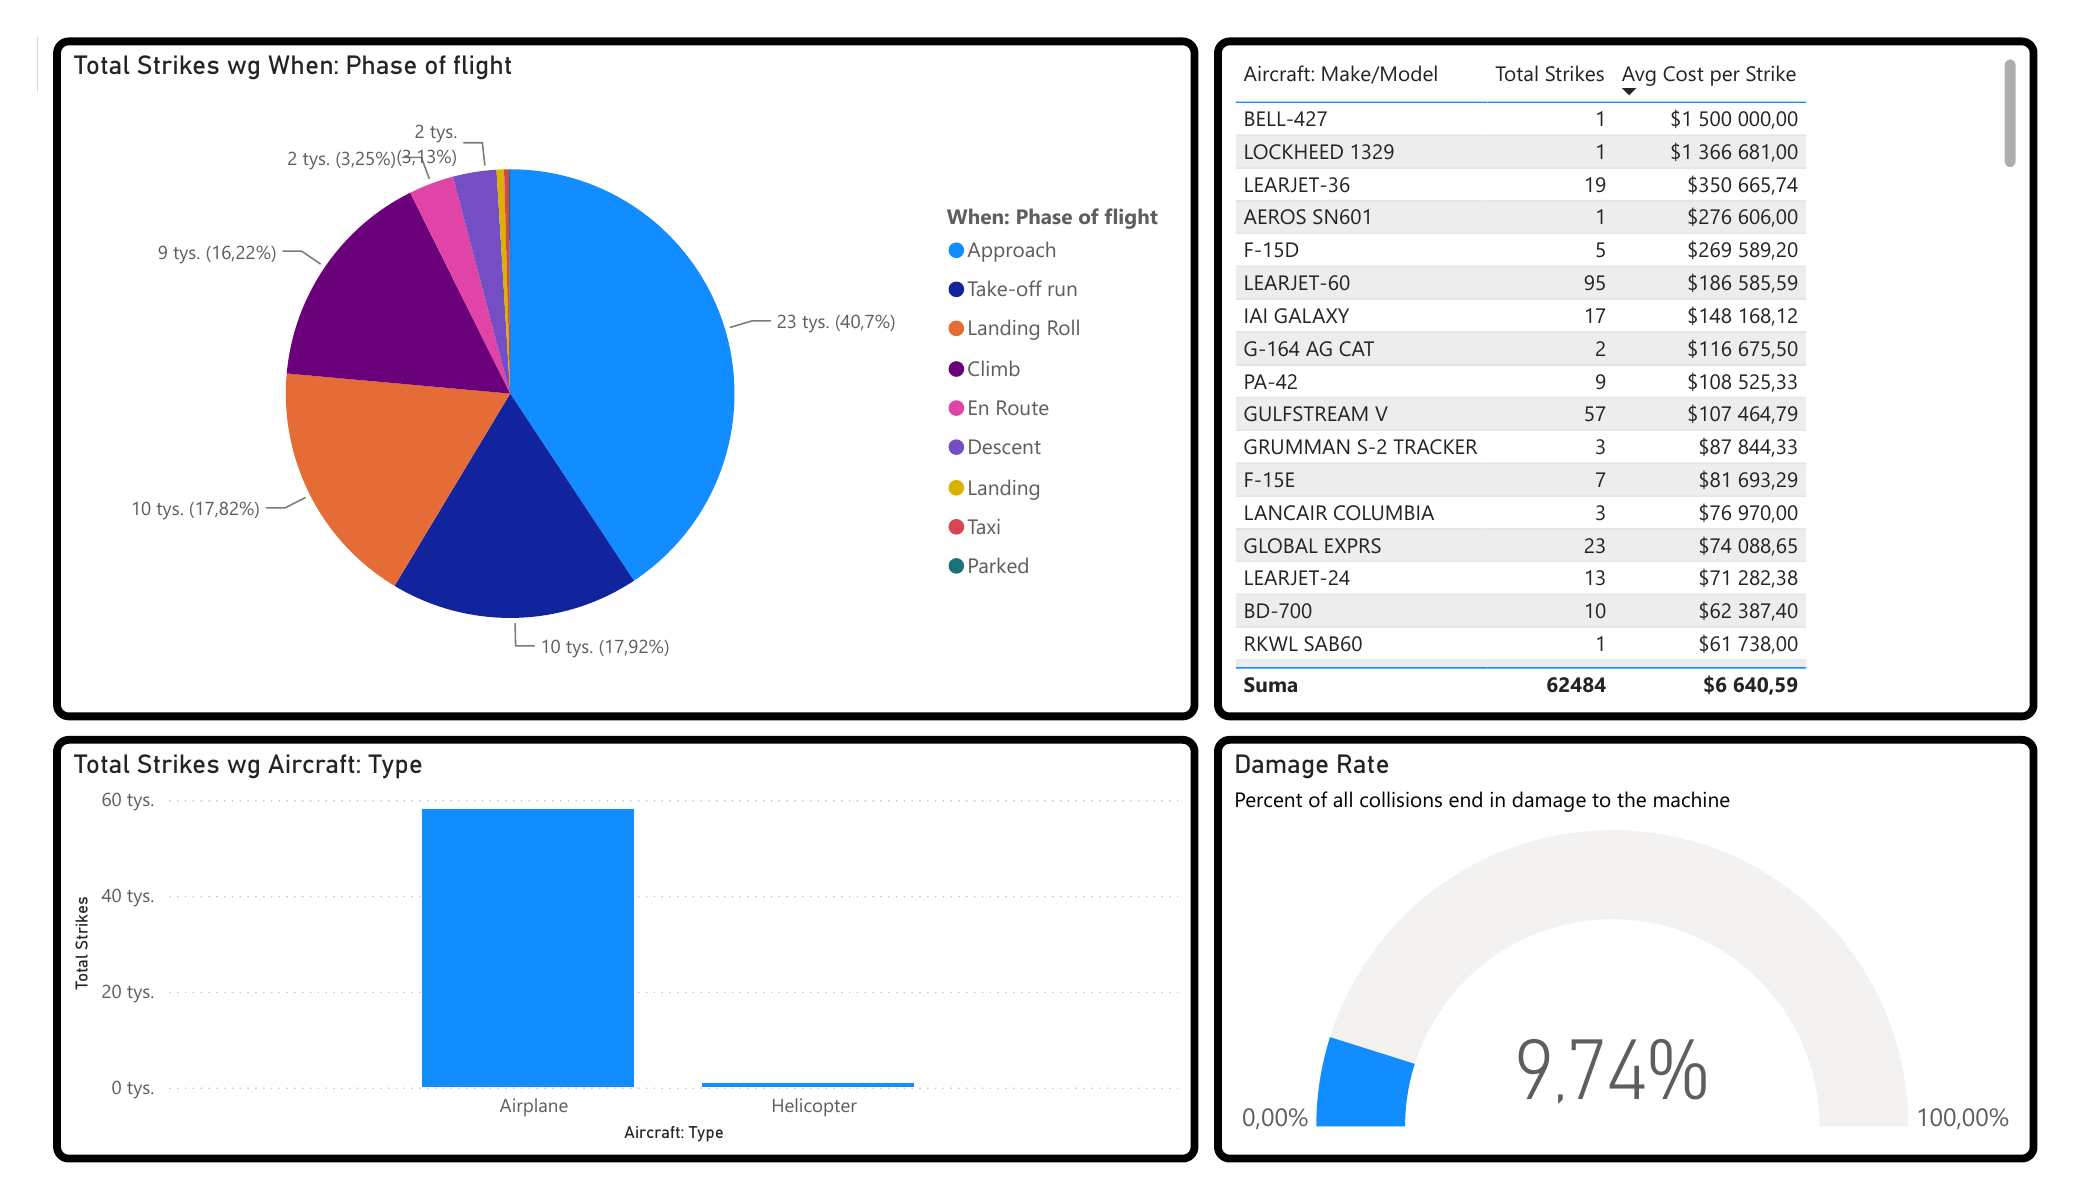

Layout of this report page (visuals, bound fields, positions):
{"tool":"powerbi","page":{"name":"Analiza ryzyka","canvas":[1280,720],"ordinal":1},"visuals":[{"type":"pieChart","fields":{"Y":["FactStrikes.Total Strikes"],"Category":["FactStrikes.When: Phase of flight"]},"box":[10.4,0,733.1,437.1],"z":0},{"type":"columnChart","fields":{"Y":["FactStrikes.Total Strikes"],"Category":["DimAircraft.Aircraft: Type"]},"box":[10,447,733,273],"z":1000},{"type":"tableEx","fields":{"Values":["DimAircraft.Aircraft: Make/Model","FactStrikes.Total Strikes","FactStrikes.Avg Cost per Strike"]},"box":[753,0,527,437],"z":2000},{"type":"gauge","title":"Damage Rate","fields":{"Y":["FactStrikes.Damage Rate"]},"box":[753,447,527,273],"z":3000}]}

Visuals, with their boxes in screenshot pixels (x1, y1, x2, y2):
pieChart - FactStrikes.Total Strikes x FactStrikes.When: Phase of flight: [65,38,1195,712]
columnChart - FactStrikes.Total Strikes x DimAircraft.Aircraft: Type: [64,727,1194,1148]
tableEx - DimAircraft.Aircraft: Make/Model x FactStrikes.Total Strikes: [1210,38,2022,712]
"Damage Rate" gauge: [1210,727,2022,1148]
